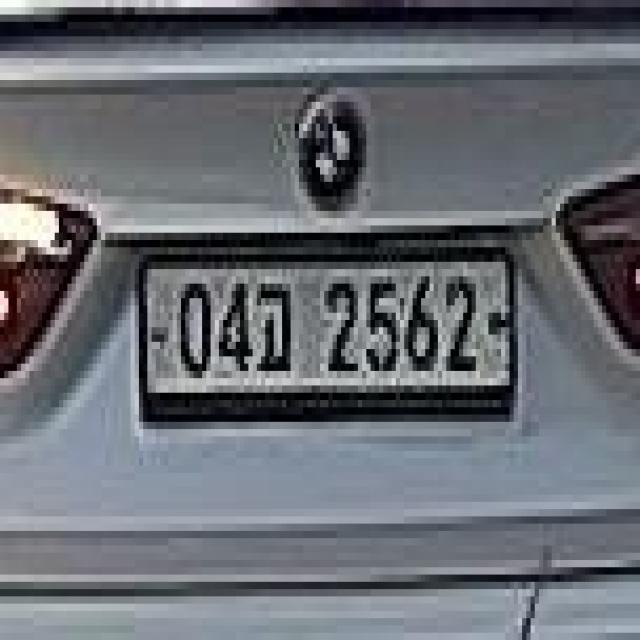illegal_plate: (135, 237, 520, 433)
